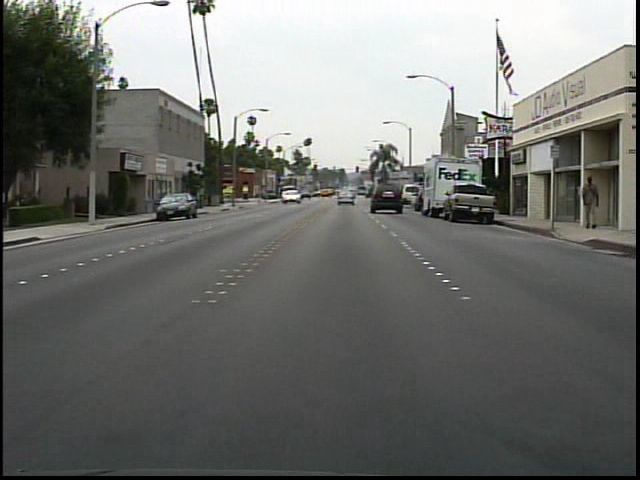person: (574, 173, 603, 233)
